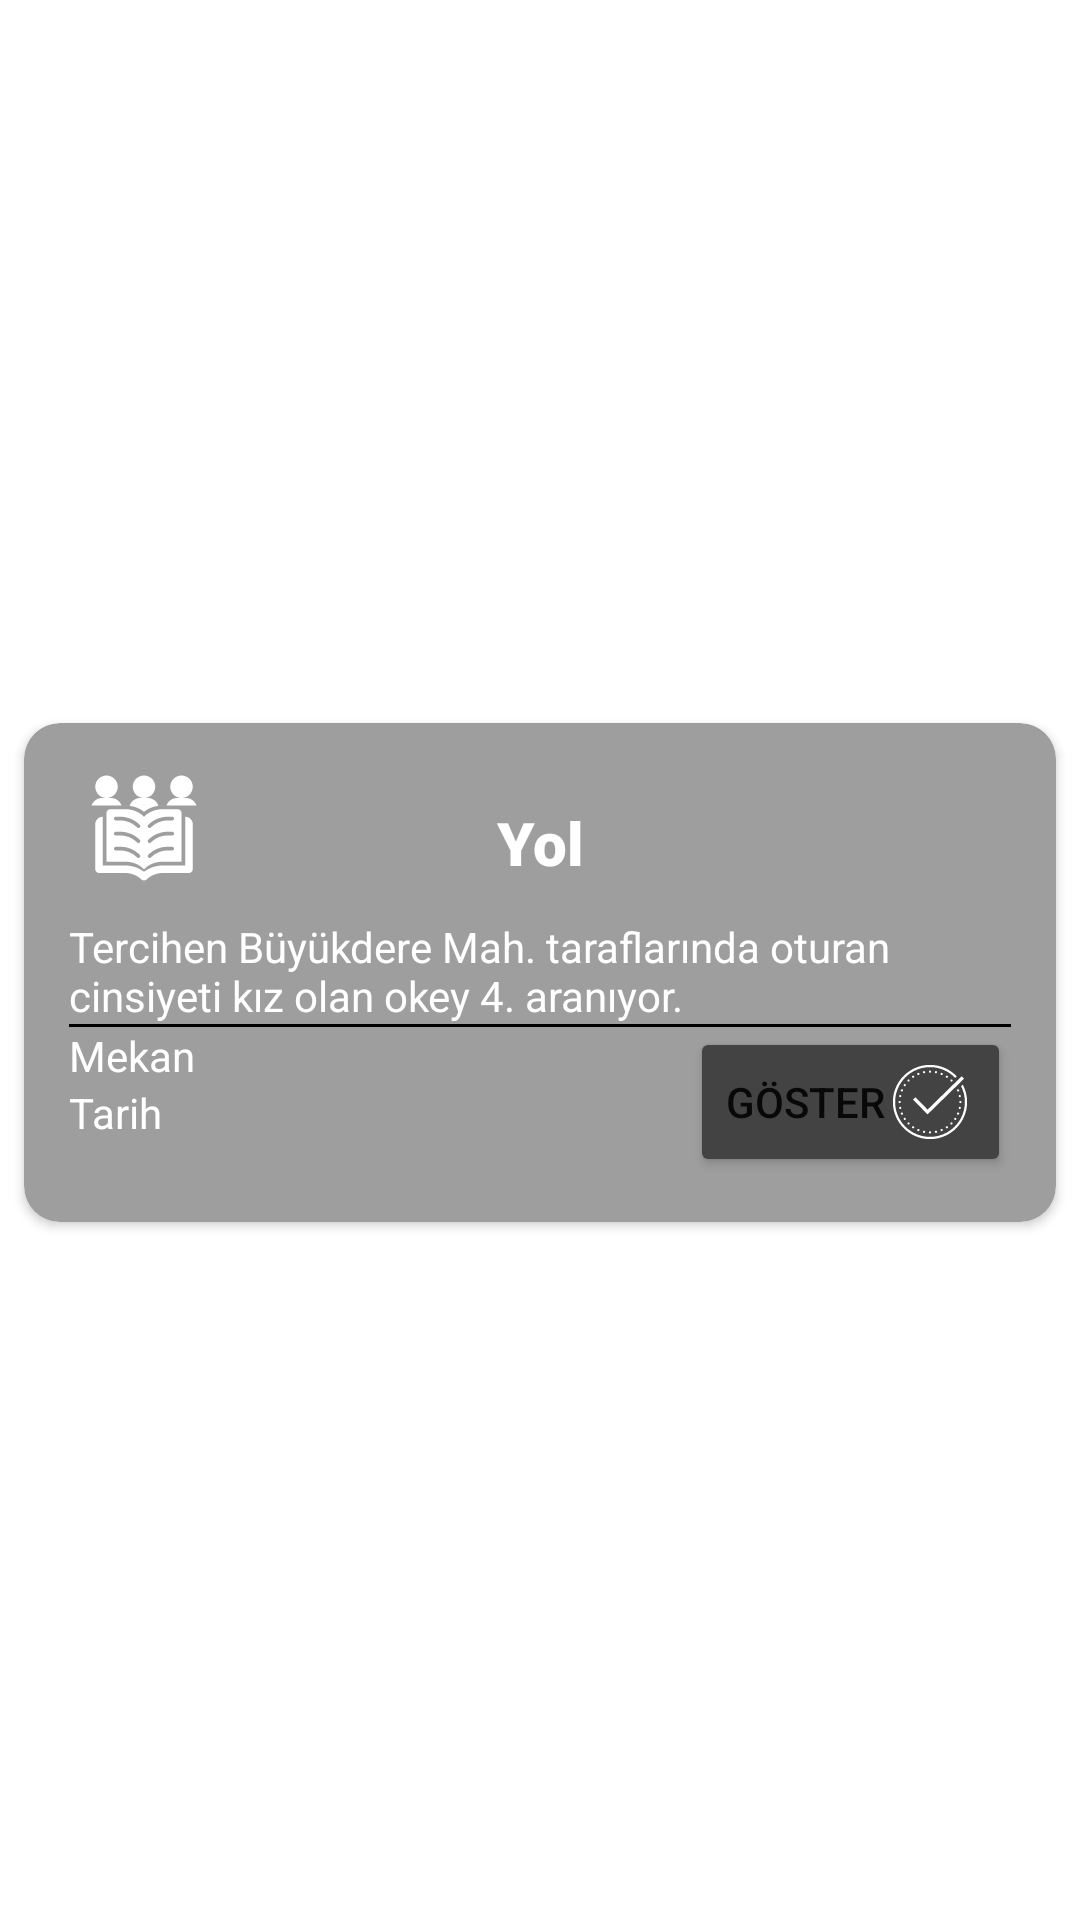

Point at icon controls on the screen. Image size 1080x1920, points as (x=x, y=y).
study activities: (x=144, y=828)
